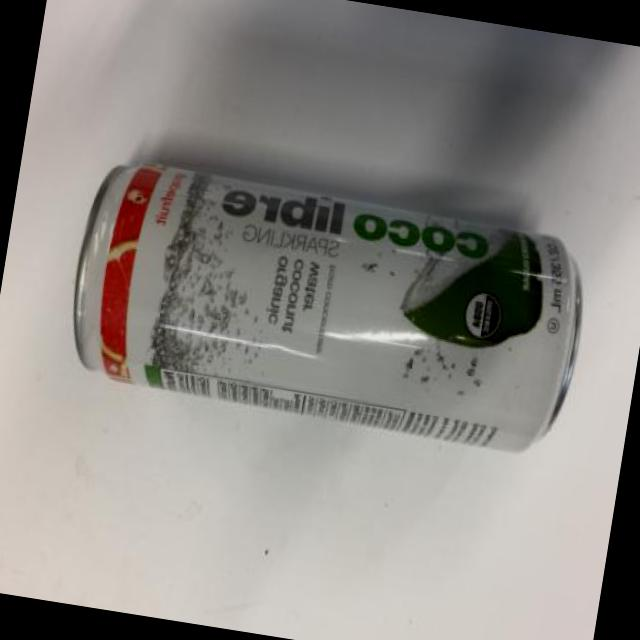kim_loai: (74, 166, 584, 452)
